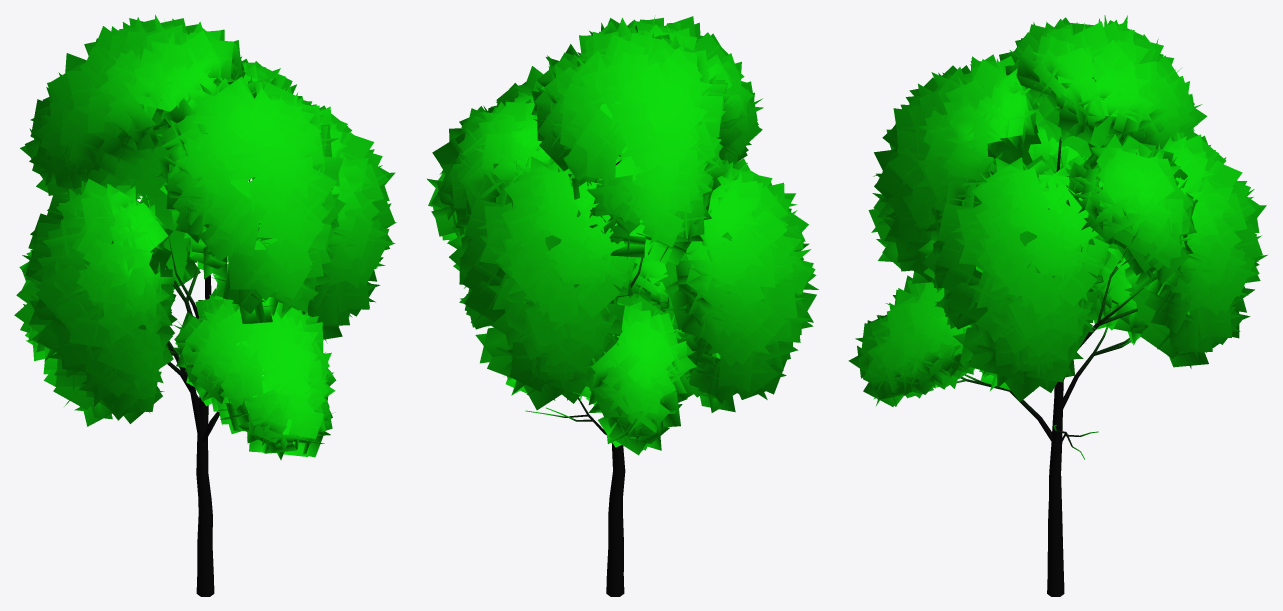
Rendered from Tree5.fbx.
3 renders of one model, left to right at view 1: azimuth 30°, elevation 25°; view 2: azimuth 150°, elevation 25°; view 3: azimuth 270°, elevation 25°, orthographic. The views are drawn at different scales.
Visible parts, largest first — view 1: _Tree.02; view 2: _Tree.02; view 3: _Tree.02.
Boxes of the visible parts, left/top/right/bottom form: _Tree.02: left=14, top=14, right=396, bottom=596; _Tree.02: left=427, top=15, right=818, bottom=596; _Tree.02: left=848, top=15, right=1267, bottom=596.
Size of the model in its own units: 4.81 by 7.54 by 5.14.
